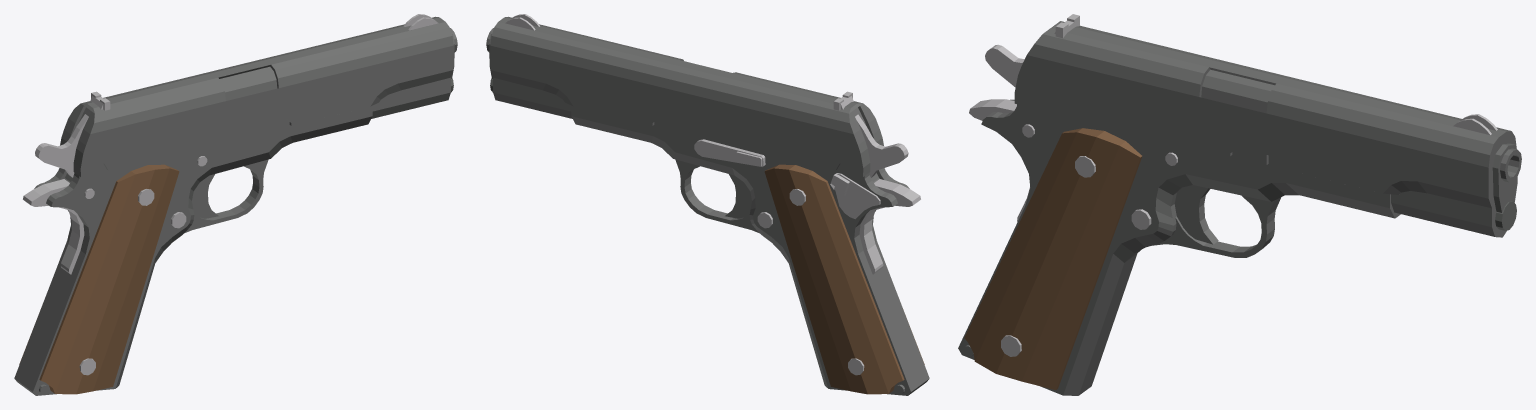
The model's file is SM_Pistol_02.glb.
The picture shows the model from 3 angles, left to right: view 1: azimuth 30°, elevation 25°; view 2: azimuth 150°, elevation 25°; view 3: azimuth 330°, elevation 25°; orthographic projection. The views are drawn at different scales.
Visible parts, largest first — view 1: SM_Pistol_02; view 2: SM_Pistol_02; view 3: SM_Pistol_02.
Boxes of the visible parts, x1=… form: SM_Pistol_02: x1=14, y1=14, x2=457, y2=395; SM_Pistol_02: x1=486, y1=14, x2=929, y2=395; SM_Pistol_02: x1=958, y1=14, x2=1521, y2=395.
Size of the model in its own units: 0.3266 by 0.2121 by 0.0437.
1 material, 1 textured.
